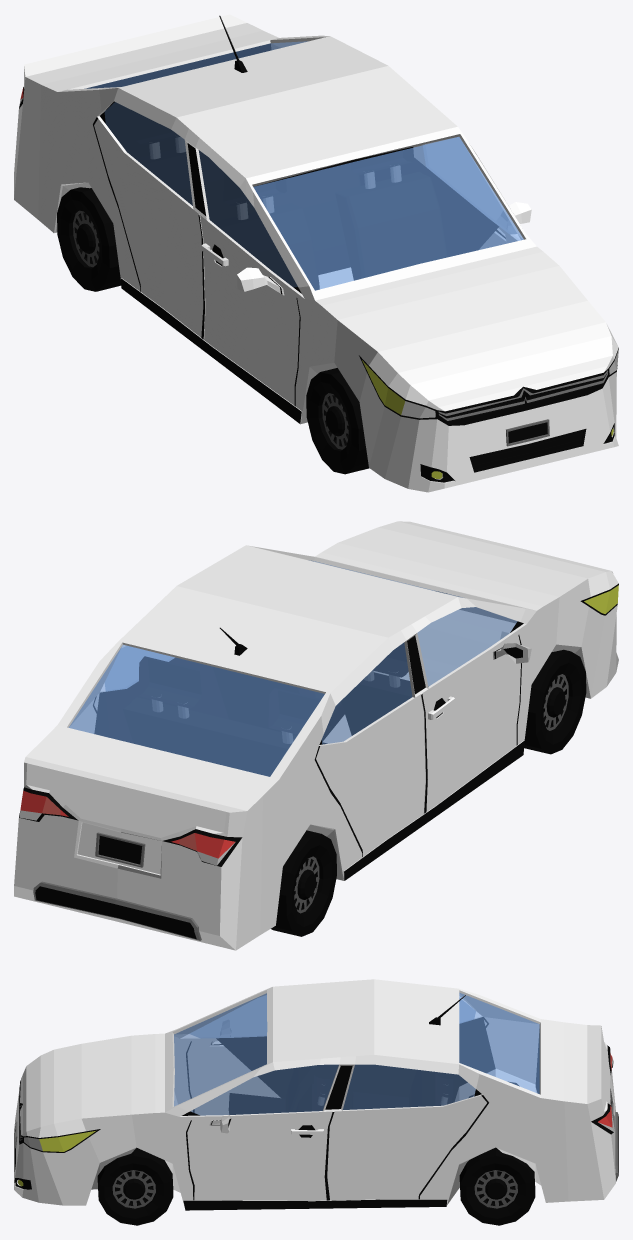
The model's file is c4 lunge.glb.
3 views of the same model, one above another, from view 1: azimuth 30°, elevation 25°; view 2: azimuth 150°, elevation 25°; view 3: azimuth 270°, elevation 25° (orthographic). The views are drawn at different scales.
Visible parts, largest first — view 1: armazon, ventanas, asiento adelante, asiento trasero, baul, rueda_trasera_der, rueda_delantera_der; view 2: armazon, ventanas, baul, asiento trasero, asiento adelante, rueda_delantera_der, rueda_trasera_der; view 3: armazon, ventanas, baul, rueda_trasera_izq, rueda_delantera_izq, asiento adelante, asiento trasero.
Part boxes in pixels (x1,y1,x2,y2): armazon: [14, 14, 618, 492]; ventanas: [86, 41, 523, 290]; asiento adelante: [213, 147, 446, 290]; asiento trasero: [136, 113, 360, 274]; baul: [27, 15, 271, 89]; rueda_trasera_der: [57, 187, 121, 291]; rueda_delantera_der: [306, 368, 369, 474]; armazon: [14, 521, 618, 950]; ventanas: [69, 560, 517, 776]; baul: [26, 729, 271, 837]; asiento trasero: [123, 656, 331, 776]; asiento adelante: [213, 643, 411, 741]; rueda_delantera_der: [524, 649, 586, 754]; rueda_trasera_der: [271, 830, 336, 936]; armazon: [14, 979, 618, 1210]; ventanas: [174, 993, 539, 1115]; baul: [544, 1021, 610, 1110]; rueda_trasera_izq: [459, 1147, 535, 1225]; rueda_delantera_izq: [97, 1147, 173, 1225]; asiento adelante: [229, 1065, 329, 1114]; asiento trasero: [352, 1070, 452, 1109].
Bounding box in the file's own units: 1.92 × 1.65 × 4.74.
